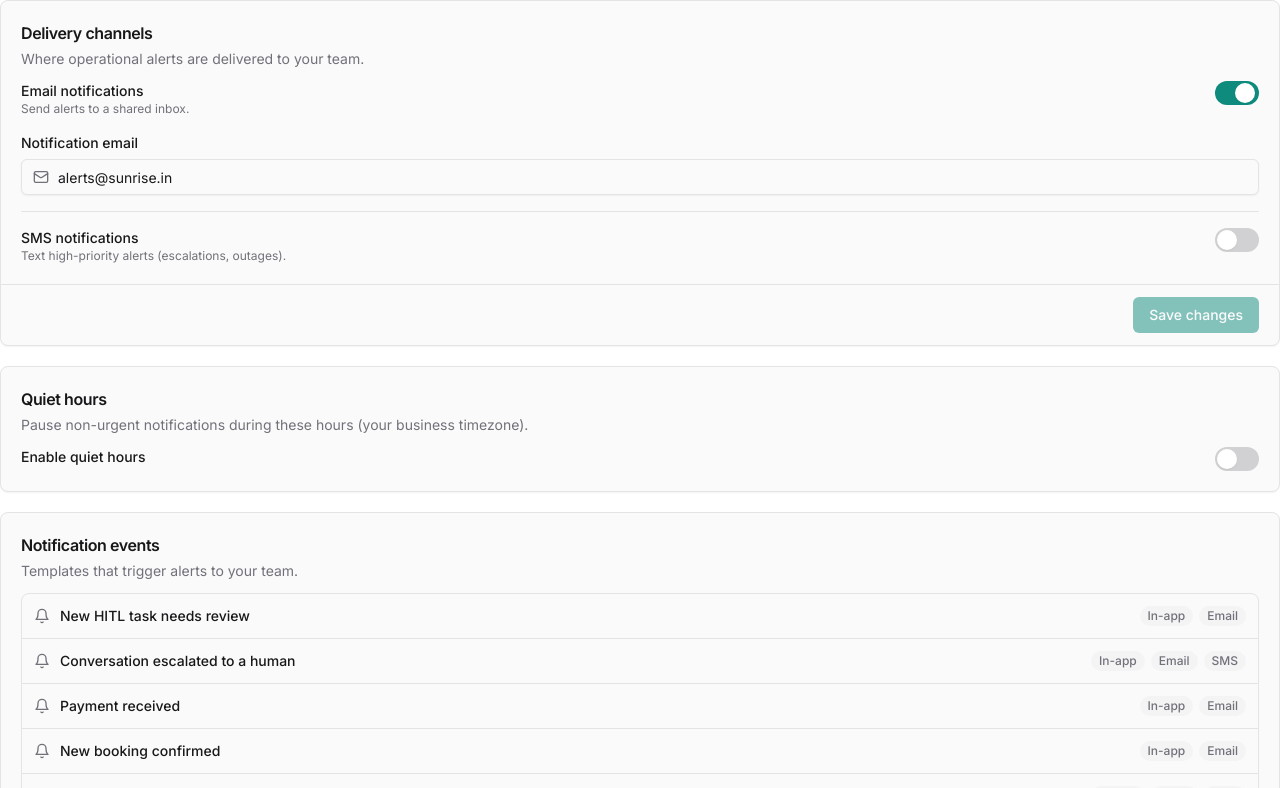
Test: NotificationsPage › turns dirty on an edited address and clean again when reverted
Replace the text in the field showing "alerts@sunrise.in" with "ops@sunrise.in" at [640, 177], box [21,159,1259,195]
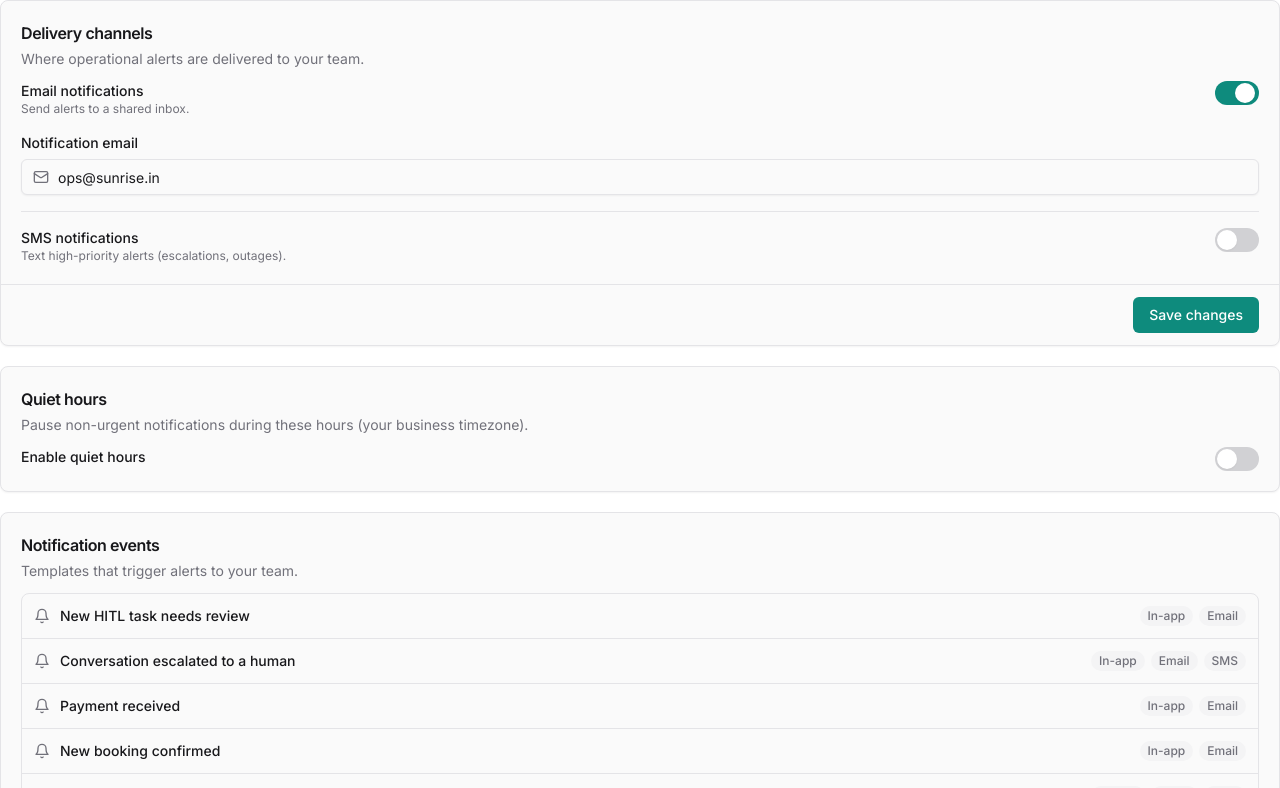
Expected: the button "Save changes" is enabled, [1133,297,1259,333]
Replace the text in the field showing "ops@sunrise.in" with "alerts@sunrise.in" at [640, 177], box [21,159,1259,195]
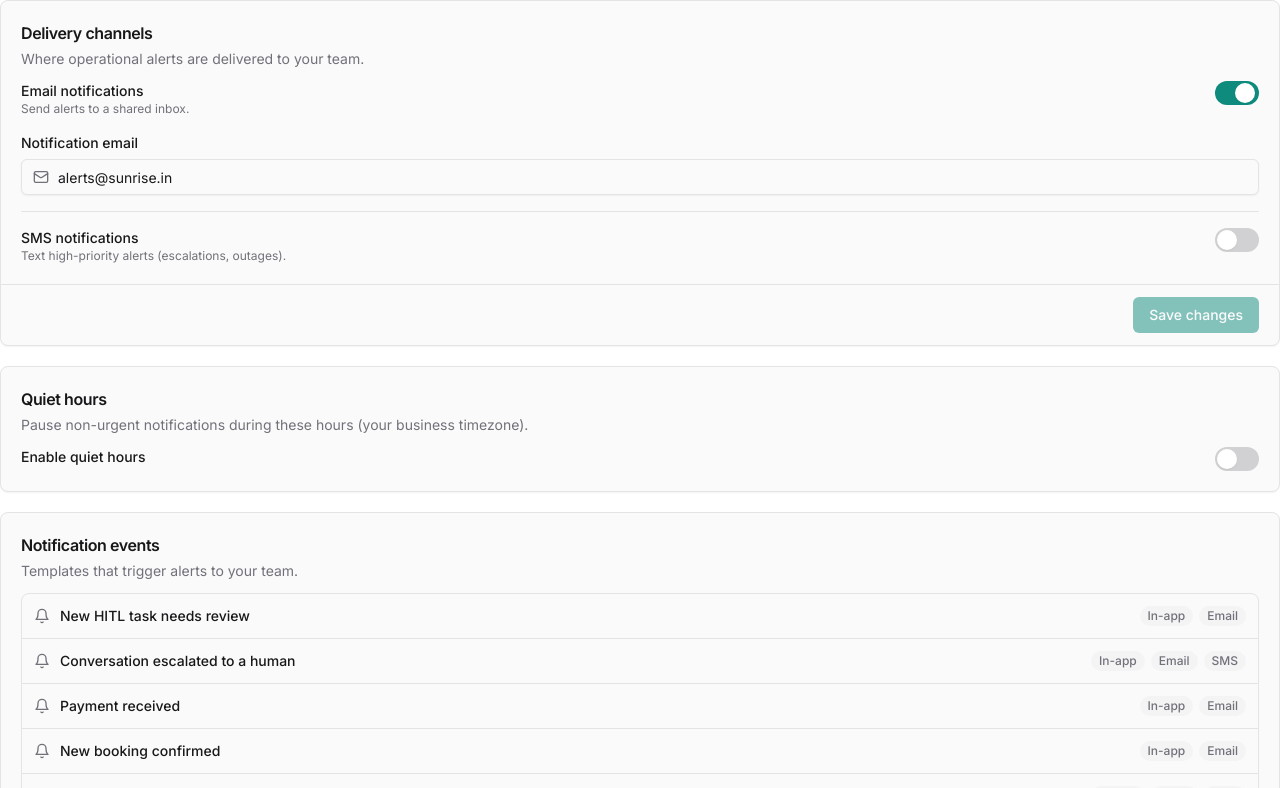
Expected: the button "Save changes" is disabled, [1133,297,1259,333]
